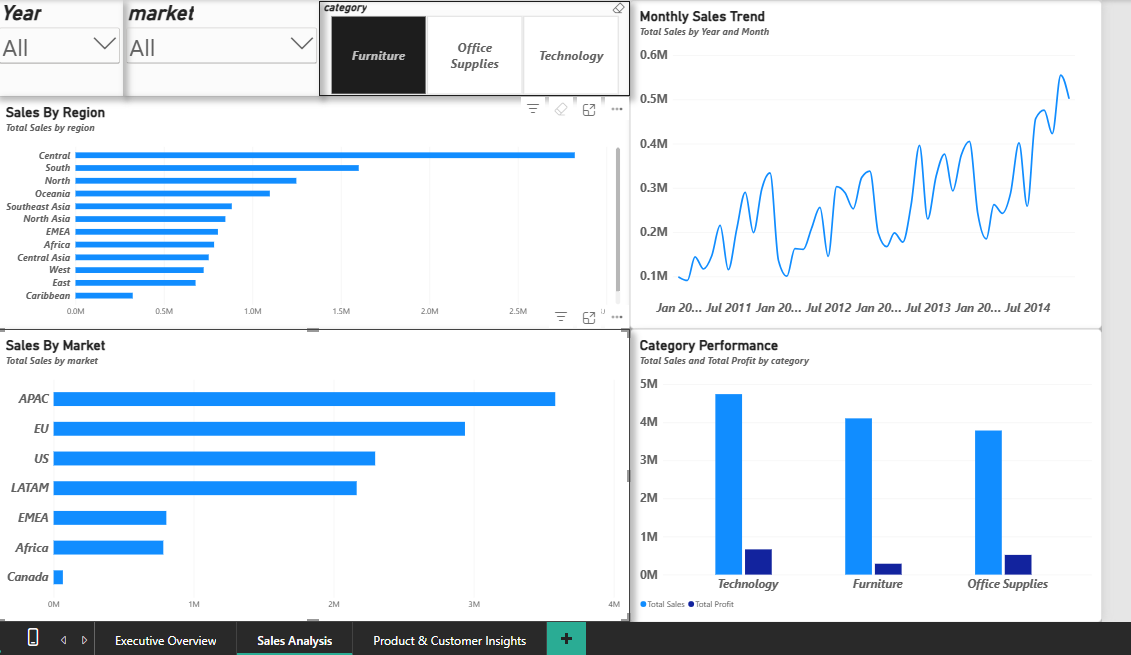

The dashboard page shown, as its layout file describes it:
{"tool":"powerbi","page":{"name":"Sales Analysis","canvas":[1920,1080],"ordinal":1},"visuals":[{"type":"clusteredBarChart","title":"Sales By Region","fields":{"Category":["Orders.region"],"Y":["Orders.Total Sales"]},"box":[0,165.8,1100.9,405.6],"z":0},{"type":"clusteredBarChart","title":"Sales By Market","fields":{"Category":["Orders.market"],"Y":["Orders.Total Sales"]},"box":[0,571.3,1100.9,509.5],"z":1000},{"type":"lineChart","title":"Monthly Sales Trend","fields":{"Category":["Orders.order_date.Variation.Date Hierarchy.Year","Orders.order_date.Variation.Date Hierarchy.Month"],"Y":["Orders.Total Sales"]},"box":[1100.9,0,819.1,571.4],"z":2000},{"type":"clusteredColumnChart","title":"Category Performance","fields":{"Category":["Orders.category"],"Y":["Orders.Total Sales","Orders.Total Profit"]},"box":[1100.9,571.4,819.1,509.5],"z":3000},{"type":"slicer","fields":{"Values":["Orders.year"]},"box":[0,0,219.8,165.8],"z":4000},{"type":"slicer","fields":{"Values":["Orders.market"]},"box":[219.8,0,341.6,165.8],"z":5000},{"type":"slicer","fields":{"Values":["Orders.category"]},"box":[561.4,2,539.4,163.8],"z":6000}]}

Visuals, with their boxes on the page's 1920x1080 design canvas (x1, y1, x2, y2). These are canvas units, not pixel positions in the 1131x655 screenshot, which may show the page scaled, cropped or inside an application window:
"Sales By Region" clusteredBarChart: bbox=(0, 166, 1101, 571)
"Sales By Market" clusteredBarChart: bbox=(0, 571, 1101, 1081)
"Monthly Sales Trend" lineChart: bbox=(1101, 0, 1920, 571)
"Category Performance" clusteredColumnChart: bbox=(1101, 571, 1920, 1081)
slicer - Orders.year: bbox=(0, 0, 220, 166)
slicer - Orders.market: bbox=(220, 0, 561, 166)
slicer - Orders.category: bbox=(561, 2, 1101, 166)
